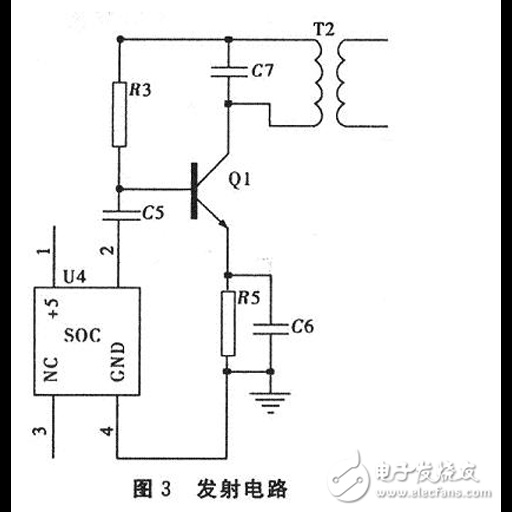capacitor: (96, 207, 143, 230), (250, 318, 291, 344), (208, 62, 249, 84)
firstresistance: (108, 78, 129, 155), (217, 287, 238, 362)
npn: (177, 143, 229, 241)
transformer: (306, 39, 353, 128)
